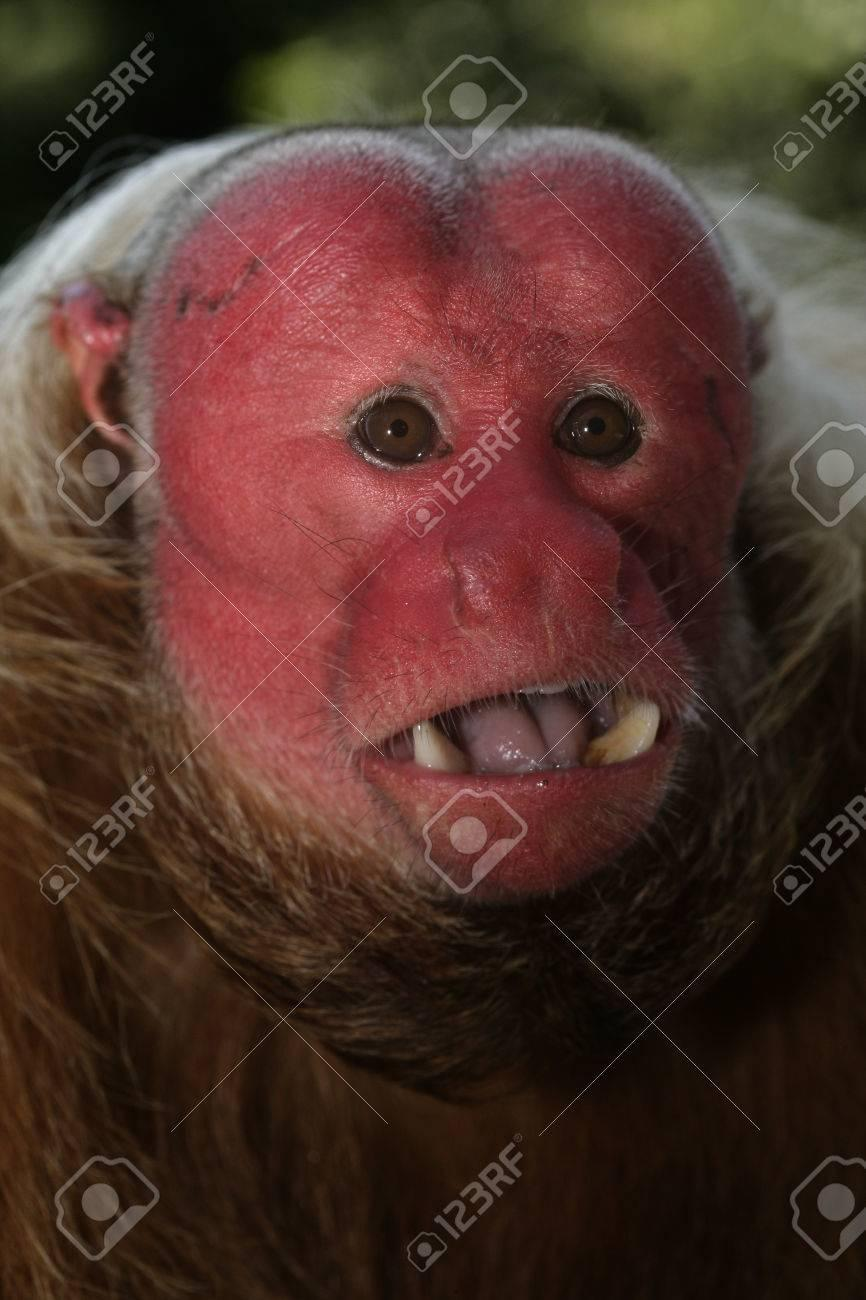monkey: (121, 119, 759, 918)
